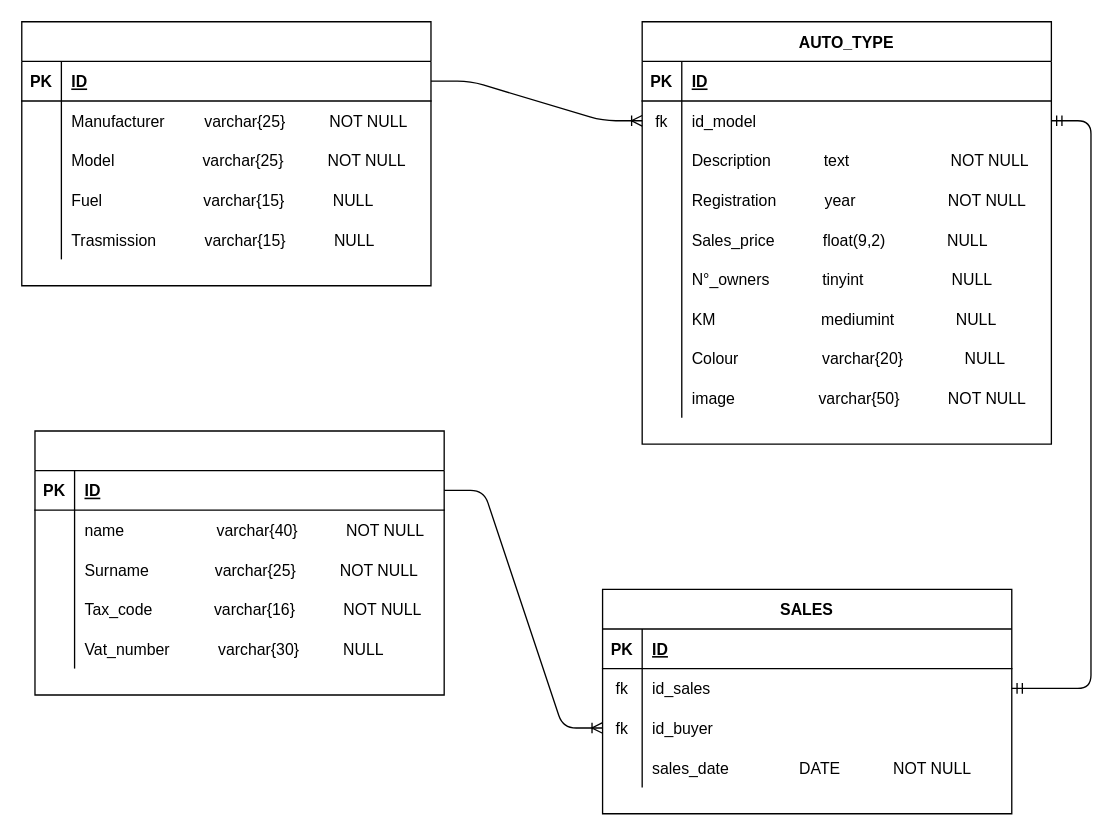
Image size: 1113x836. Some labels were removed from this diagram. The shapes that lost their labels are listed below. From the top down, each one's box as (x1, y1, x2, y2) in pixels, then its label:
(20, 20, 431, 286): AUTO_MODEL
(34, 430, 444, 695): BUYER
